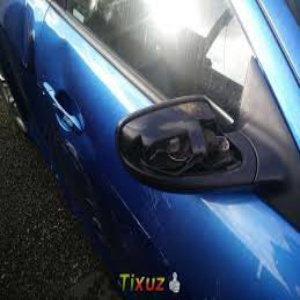door_scratch: (79, 194, 184, 243)
side_mirror: (113, 92, 249, 194)
